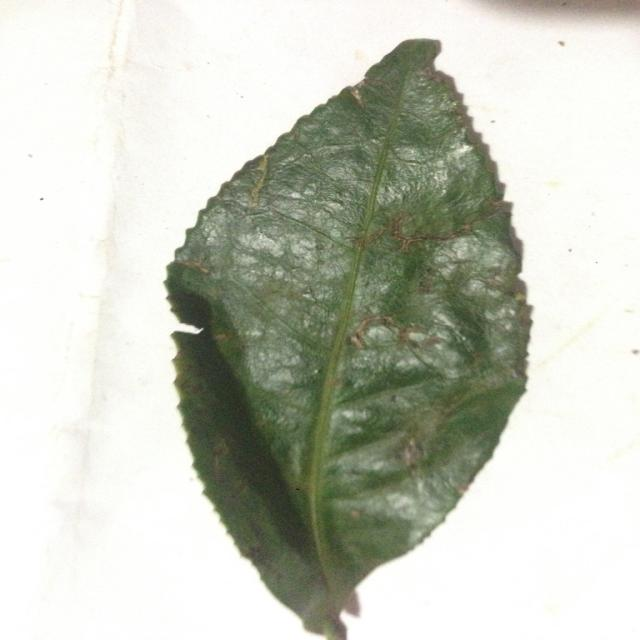Red Leaf Spot: (165, 40, 528, 637)
